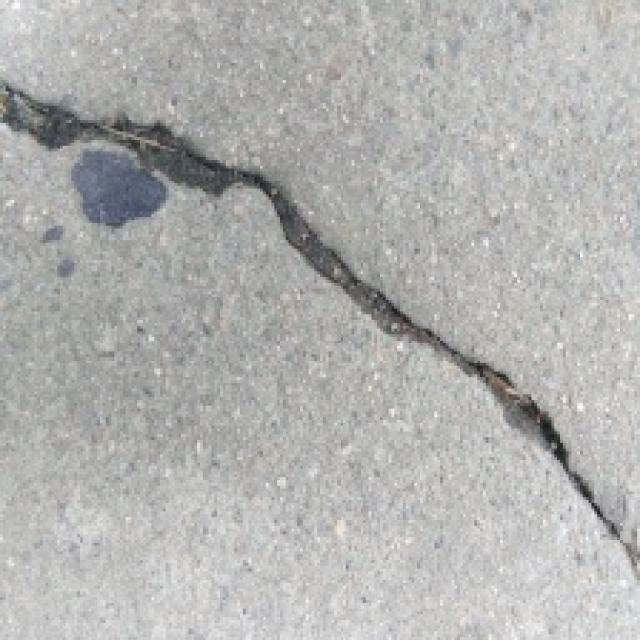crack: (0, 42, 640, 566)
